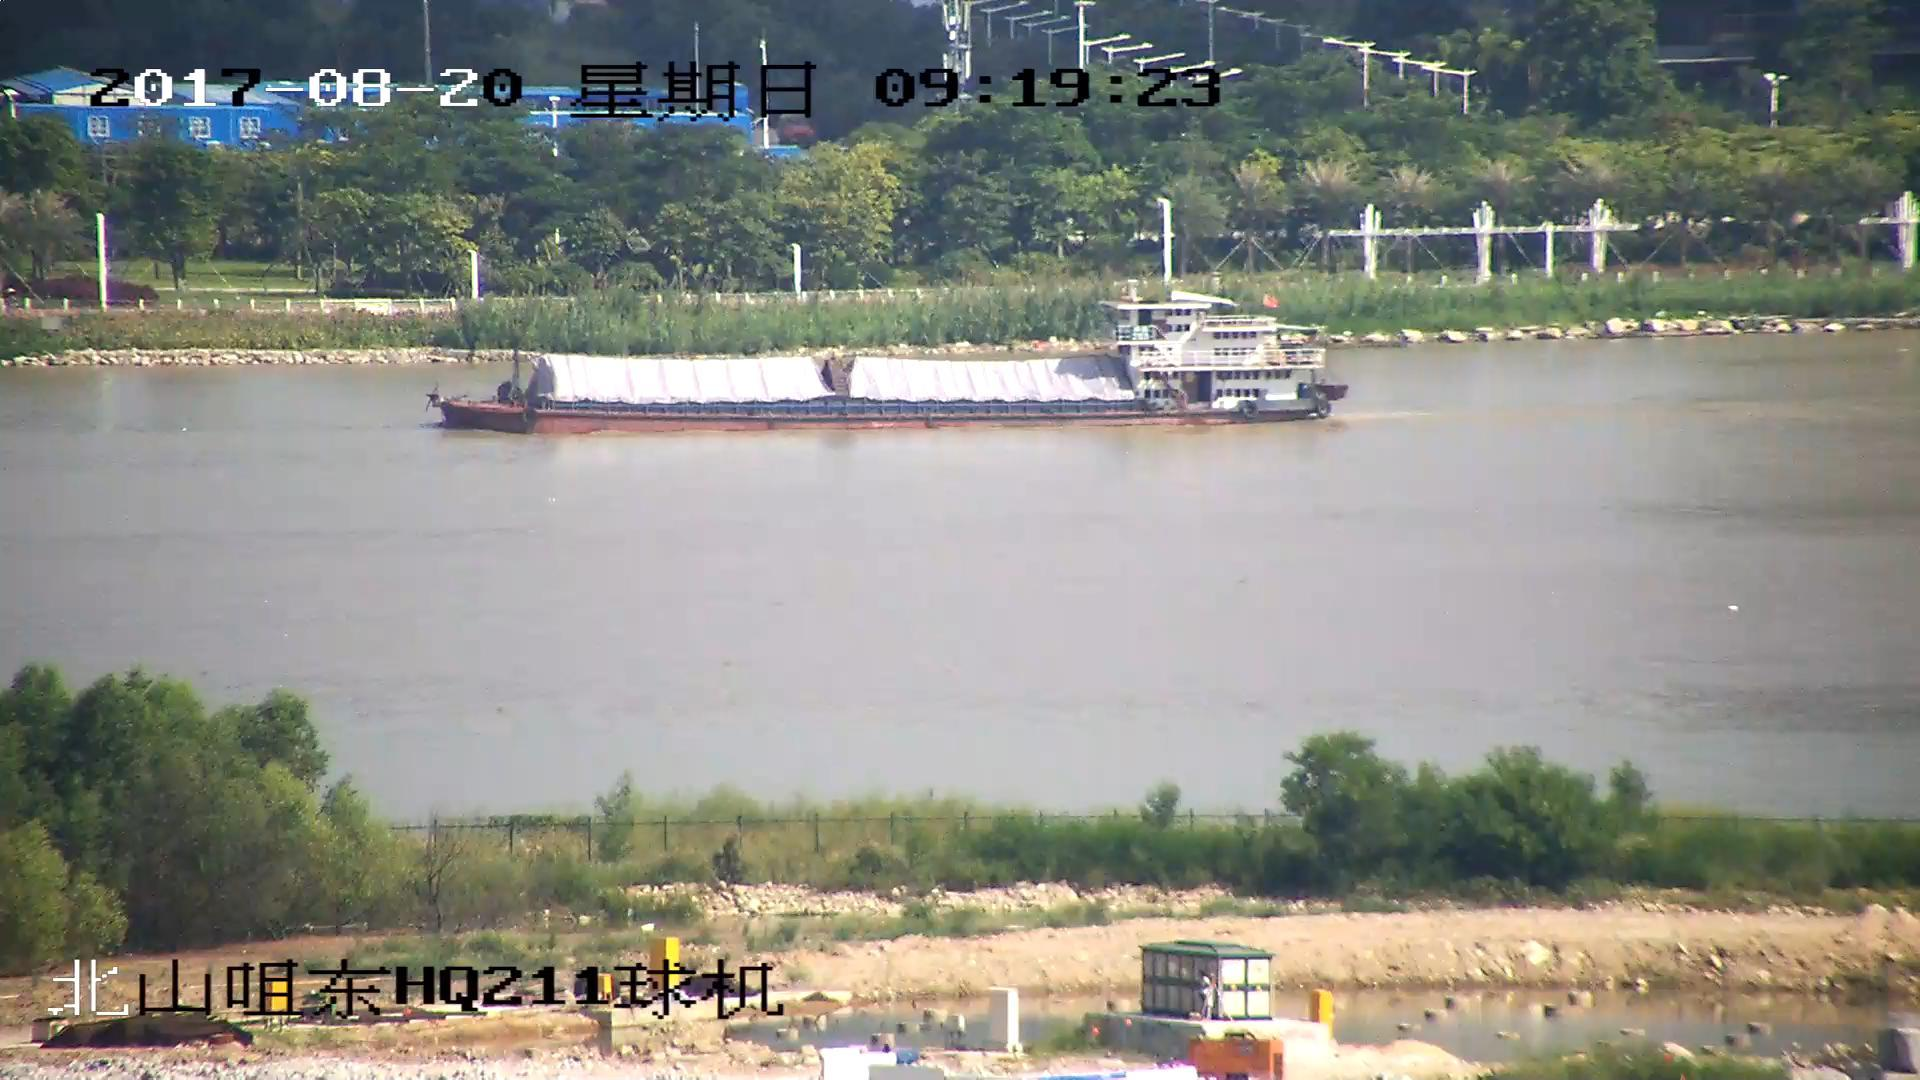Ship: (430, 299, 1344, 435)
